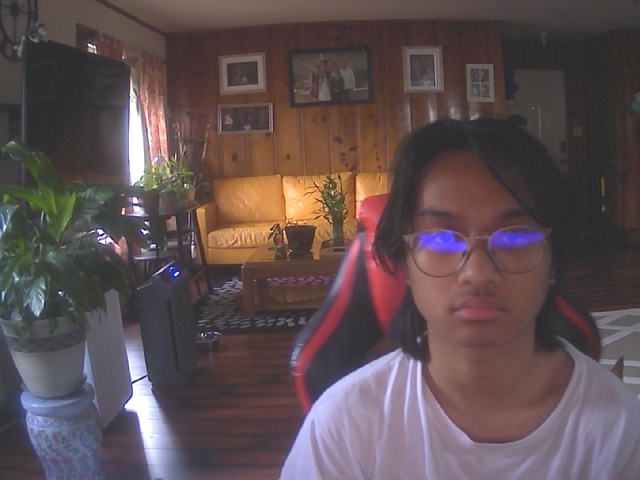neutral: (396, 122, 570, 348)
